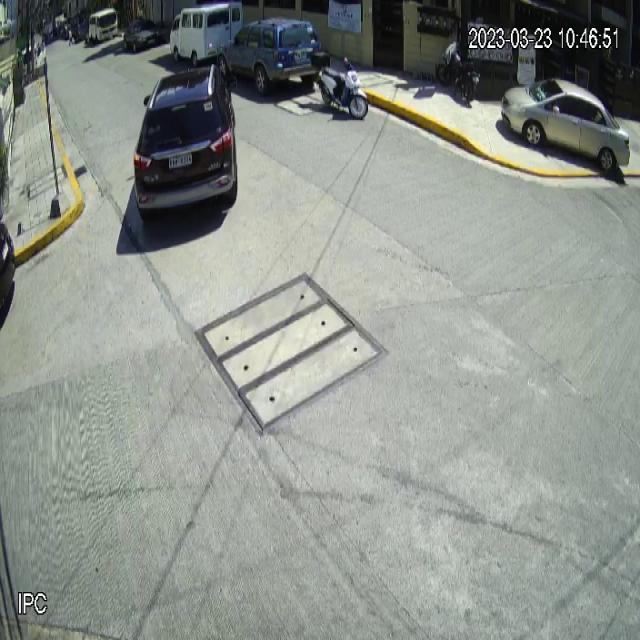Car: (133, 64, 238, 227), (501, 78, 630, 171), (216, 16, 323, 96)
Motorcycle: (312, 54, 368, 120)
Van: (169, 0, 242, 69)
